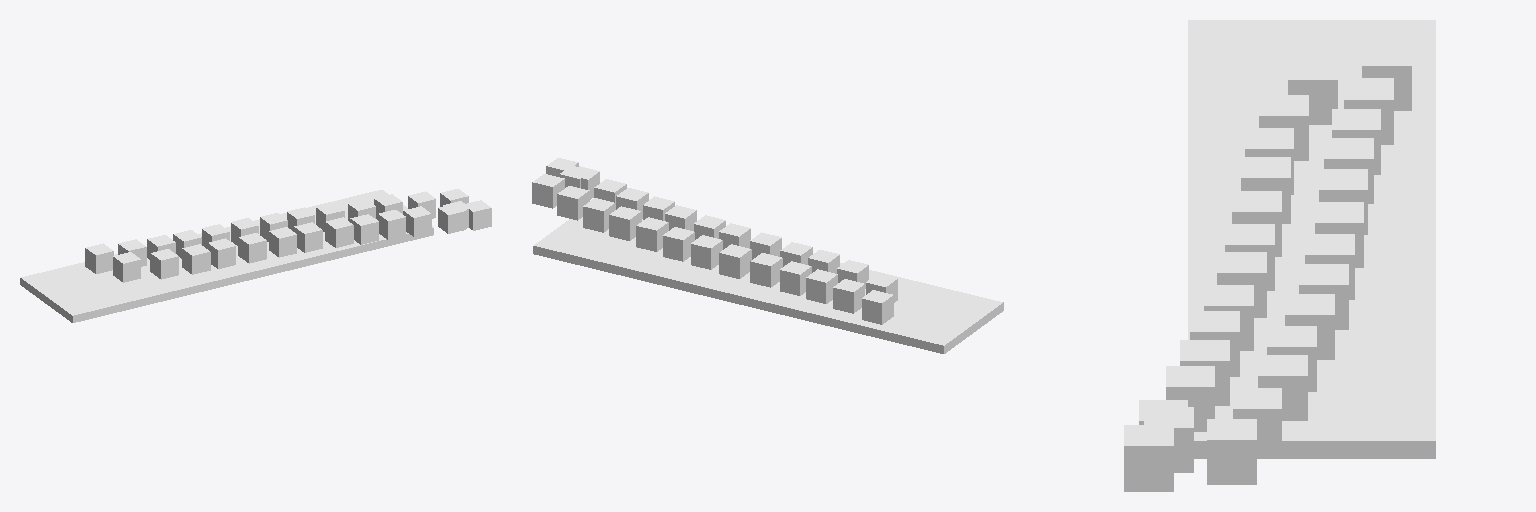
--- Facts derived from the render (not from the file) ---
The picture shows the robot from 3 angles, left to right: view 1: azimuth 30°, elevation 25°; view 2: azimuth 150°, elevation 25°; view 3: azimuth 270°, elevation 25°; orthographic projection.
Robot: plane — 28 links, 27 joints (27 prismatic); root link planeLink; default pose: all joints at 0.
Visible links, largest first — view 1: planeLink, disk_link_015, disk_link_003, disk_link_009, disk_link_005, disk_link_000, disk_link_001, disk_link_011, disk_link_019, disk_link_013, disk_link_021, disk_link_007 (+3 smaller); view 2: planeLink, disk_link_010, disk_link_000, disk_link_008, disk_link_002, disk_link_018, disk_link_012, disk_link_014, disk_link_022, disk_link_016, disk_link_004, disk_link_024 (+12 smaller); view 3: planeLink, disk_link_026, disk_link_024, disk_link_001, disk_link_020, disk_link_022, disk_link_021, disk_link_000, disk_link_016, disk_link_003, disk_link_013, disk_link_002 (+16 smaller).
Boxes of the visible links, x1,y1,x2,y2 form: planeLink: (20, 190, 433, 322); disk_link_015: (325, 217, 353, 247); disk_link_003: (150, 249, 178, 279); disk_link_009: (238, 233, 266, 263); disk_link_005: (182, 244, 210, 274); disk_link_000: (85, 243, 113, 273); disk_link_001: (113, 252, 140, 282); disk_link_011: (269, 227, 296, 257); disk_link_019: (378, 210, 405, 239); disk_link_013: (294, 222, 322, 252); disk_link_021: (403, 206, 431, 236); disk_link_007: (208, 238, 235, 268); planeLink: (533, 217, 1003, 353); disk_link_010: (719, 244, 751, 278); disk_link_000: (862, 290, 893, 324); disk_link_008: (750, 253, 782, 287); disk_link_002: (833, 279, 864, 313); disk_link_018: (609, 206, 641, 240); disk_link_012: (691, 235, 722, 269); disk_link_014: (663, 227, 694, 261); disk_link_022: (557, 186, 589, 220); disk_link_016: (636, 217, 668, 251); disk_link_004: (806, 269, 837, 303); disk_link_024: (532, 174, 564, 208); planeLink: (1188, 20, 1435, 458); disk_link_026: (1124, 425, 1173, 491); disk_link_024: (1207, 419, 1256, 484); disk_link_001: (1288, 59, 1337, 124); disk_link_020: (1258, 355, 1307, 420); disk_link_022: (1233, 388, 1281, 453); disk_link_021: (1166, 366, 1214, 431); disk_link_000: (1362, 45, 1411, 110); disk_link_016: (1285, 294, 1334, 359); disk_link_003: (1259, 95, 1308, 160); disk_link_013: (1217, 252, 1266, 317); disk_link_002: (1344, 78, 1393, 144).
Bounding box of the posed robot: 2.24 × 0.6281 × 0.14 m (x, y, z).
Geometry: primitives only (box / cylinder / sphere), no mesh files.

The robot description file, URDF, robot "plane":
<?xml version="1.0" ?>
<!-- =================================================================================== -->
<!-- |    This document was autogenerated by xacro from plane_with_restitution.urdf.xacro | -->
<!-- |    EDITING THIS FILE BY HAND IS NOT RECOMMENDED                                 | -->
<!-- =================================================================================== -->
<robot name="plane">
  <link name="planeLink">
    <contact>
      <lateral_friction value="1.0"/>
      <restitution value="0.0"/>
    </contact>
    <inertial>
      <origin rpy="0 0 0" xyz="0 0 0"/>
      <mass value=".0"/>
      <inertia ixx="0" ixy="0" ixz="0" iyy="0" iyz="0" izz="0"/>
    </inertial>
    <visual>
      <origin rpy="0 0 0" xyz="0.85 -0.1 -0.12"/>
      <geometry>
        <box size="2 0.5 0.04"/>
      </geometry>
      <material name="white">
        <color rgba="1 1 1 1"/>
      </material>
    </visual>
    <collision>
      <origin rpy="0 0 0" xyz="0.85 -0.1 -0.12"/>
      <geometry>
        <box size="2 0.5 0.04"/>
      </geometry>
    </collision>
  </link>
    <joint name="disk_joint_000" type="prismatic">
    <parent link="planeLink"/>
    <child link="disk_link_000"/>
    <limit effort="1000" lower="-10" upper="10" velocity="100000"/>
    <axis xyz="0 0 1"/>
    <origin rpy="0 0 0" xyz="0.2310104599667308 0.050647763888851983 -0.05"/>
  </joint>
  <link name="disk_link_000">
    <contact>
        <lateral_friction value="1.0"/>
        <restitution value="0.0"/>
    </contact>
    <inertial>
      <origin rpy="0 0 0" xyz="0 0 0"/>
       <mass value="1.0"/>
       <inertia ixx="0" ixy="0" ixz="0" iyy="0" iyz="0" izz="0"/>
    </inertial>
    <collision>
      <origin rpy="0 0 0" xyz="0 0 0"/>
      <geometry>
        <box size="0.1 0.1 0.1"/>
      </geometry>
      <material name="white">
        <color rgba="1 1 1 1"/>
      </material>
    </collision>
    <visual>
      <origin rpy="0 0 0" xyz="0 0 0"/>
      <geometry>
        <box size="0.1 0.1 0.1"/>
      </geometry>
      <material name="white">
        <color rgba="1 1 1 1"/>
      </material>
    </visual>
  </link>
  <joint name="disk_joint_001" type="prismatic">
    <parent link="planeLink"/>
    <child link="disk_link_001"/>
    <limit effort="1000" lower="-10" upper="10" velocity="100000"/>
    <axis xyz="0 0 1"/>
    <origin rpy="0 0 0" xyz="0.2969591136928226 -0.09700729740518442 -0.05"/>
  </joint>
  <link name="disk_link_001">
    <contact>
        <lateral_friction value="1.0"/>
        <restitution value="0.0"/>
    </contact>
    <inertial>
      <origin rpy="0 0 0" xyz="0 0 0"/>
       <mass value="1.0"/>
       <inertia ixx="0" ixy="0" ixz="0" iyy="0" iyz="0" izz="0"/>
    </inertial>
    <collision>
      <origin rpy="0 0 0" xyz="0 0 0"/>
      <geometry>
        <box size="0.1 0.1 0.1"/>
      </geometry>
      <material name="white">
        <color rgba="1 1 1 1"/>
      </material>
    </collision>
    <visual>
      <origin rpy="0 0 0" xyz="0 0 0"/>
      <geometry>
        <box size="0.1 0.1 0.1"/>
      </geometry>
      <material name="white">
        <color rgba="1 1 1 1"/>
      </material>
    </visual>
  </link>
  <joint name="disk_joint_002" type="prismatic">
    <parent link="planeLink"/>
    <child link="disk_link_002"/>
    <limit effort="1000" lower="-10" upper="10" velocity="100000"/>
    <axis xyz="0 0 1"/>
    <origin rpy="0 0 0" xyz="0.390574950430909 0.015025331780004255 -0.05"/>
  </joint>
  <link name="disk_link_002">
    <contact>
        <lateral_friction value="1.0"/>
        <restitution value="0.0"/>
    </contact>
    <inertial>
      <origin rpy="0 0 0" xyz="0 0 0"/>
       <mass value="1.0"/>
       <inertia ixx="0" ixy="0" ixz="0" iyy="0" iyz="0" izz="0"/>
    </inertial>
    <collision>
      <origin rpy="0 0 0" xyz="0 0 0"/>
      <geometry>
        <box size="0.1 0.1 0.1"/>
      </geometry>
      <material name="white">
        <color rgba="1 1 1 1"/>
      </material>
    </collision>
    <visual>
      <origin rpy="0 0 0" xyz="0 0 0"/>
      <geometry>
        <box size="0.1 0.1 0.1"/>
      </geometry>
      <material name="white">
        <color rgba="1 1 1 1"/>
      </material>
    </visual>
  </link>
  <joint name="disk_joint_003" type="prismatic">
    <parent link="planeLink"/>
    <child link="disk_link_003"/>
    <limit effort="1000" lower="-10" upper="10" velocity="100000"/>
    <axis xyz="0 0 1"/>
    <origin rpy="0 0 0" xyz="0.4709467151014552 -0.15623301192813455 -0.05"/>
  </joint>
  <link name="disk_link_003">
    <contact>
        <lateral_friction value="1.0"/>
        <restitution value="0.0"/>
    </contact>
    <inertial>
      <origin rpy="0 0 0" xyz="0 0 0"/>
       <mass value="1.0"/>
       <inertia ixx="0" ixy="0" ixz="0" iyy="0" iyz="0" izz="0"/>
    </inertial>
    <collision>
      <origin rpy="0 0 0" xyz="0 0 0"/>
      <geometry>
        <box size="0.1 0.1 0.1"/>
      </geometry>
      <material name="white">
        <color rgba="1 1 1 1"/>
      </material>
    </collision>
    <visual>
      <origin rpy="0 0 0" xyz="0 0 0"/>
      <geometry>
        <box size="0.1 0.1 0.1"/>
      </geometry>
      <material name="white">
        <color rgba="1 1 1 1"/>
      </material>
    </visual>
  </link>
  <joint name="disk_joint_004" type="prismatic">
    <parent link="planeLink"/>
    <child link="disk_link_004"/>
    <limit effort="1000" lower="-10" upper="10" velocity="100000"/>
    <axis xyz="0 0 1"/>
    <origin rpy="0 0 0" xyz="0.537315868208263 -0.010442785155386712 -0.05"/>
  </joint>
  <link name="disk_link_004">
    <contact>
        <lateral_friction value="1.0"/>
        <restitution value="0.0"/>
    </contact>
    <inertial>
      <origin rpy="0 0 0" xyz="0 0 0"/>
       <mass value="1.0"/>
       <inertia ixx="0" ixy="0" ixz="0" iyy="0" iyz="0" izz="0"/>
    </inertial>
    <collision>
      <origin rpy="0 0 0" xyz="0 0 0"/>
      <geometry>
        <box size="0.1 0.1 0.1"/>
      </geometry>
      <material name="white">
        <color rgba="1 1 1 1"/>
      </material>
    </collision>
    <visual>
      <origin rpy="0 0 0" xyz="0 0 0"/>
      <geometry>
        <box size="0.1 0.1 0.1"/>
      </geometry>
      <material name="white">
        <color rgba="1 1 1 1"/>
      </material>
    </visual>
  </link>
  <joint name="disk_joint_005" type="prismatic">
    <parent link="planeLink"/>
    <child link="disk_link_005"/>
    <limit effort="1000" lower="-10" upper="10" velocity="100000"/>
    <axis xyz="0 0 1"/>
    <origin rpy="0 0 0" xyz="0.6284558666370316 -0.18540581361519115 -0.05"/>
  </joint>
  <link name="disk_link_005">
    <contact>
        <lateral_friction value="1.0"/>
        <restitution value="0.0"/>
    </contact>
    <inertial>
      <origin rpy="0 0 0" xyz="0 0 0"/>
       <mass value="1.0"/>
       <inertia ixx="0" ixy="0" ixz="0" iyy="0" iyz="0" izz="0"/>
    </inertial>
    <collision>
      <origin rpy="0 0 0" xyz="0 0 0"/>
      <geometry>
        <box size="0.1 0.1 0.1"/>
      </geometry>
      <material name="white">
        <color rgba="1 1 1 1"/>
      </material>
    </collision>
    <visual>
      <origin rpy="0 0 0" xyz="0 0 0"/>
      <geometry>
        <box size="0.1 0.1 0.1"/>
      </geometry>
      <material name="white">
        <color rgba="1 1 1 1"/>
      </material>
    </visual>
  </link>
  <joint name="disk_joint_006" type="prismatic">
    <parent link="planeLink"/>
    <child link="disk_link_006"/>
    <limit effort="1000" lower="-10" upper="10" velocity="100000"/>
    <axis xyz="0 0 1"/>
    <origin rpy="0 0 0" xyz="0.6737209751410542 -0.02453396936138319 -0.05"/>
  </joint>
  <link name="disk_link_006">
    <contact>
        <lateral_friction value="1.0"/>
        <restitution value="0.0"/>
    </contact>
    <inertial>
      <origin rpy="0 0 0" xyz="0 0 0"/>
       <mass value="1.0"/>
       <inertia ixx="0" ixy="0" ixz="0" iyy="0" iyz="0" izz="0"/>
    </inertial>
    <collision>
      <origin rpy="0 0 0" xyz="0 0 0"/>
      <geometry>
        <box size="0.1 0.1 0.1"/>
      </geometry>
      <material name="white">
        <color rgba="1 1 1 1"/>
      </material>
    </collision>
    <visual>
      <origin rpy="0 0 0" xyz="0 0 0"/>
      <geometry>
        <box size="0.1 0.1 0.1"/>
      </geometry>
      <material name="white">
        <color rgba="1 1 1 1"/>
      </material>
    </visual>
  </link>
  <joint name="disk_joint_007" type="prismatic">
    <parent link="planeLink"/>
    <child link="disk_link_007"/>
    <limit effort="1000" lower="-10" upper="10" velocity="100000"/>
    <axis xyz="0 0 1"/>
    <origin rpy="0 0 0" xyz="0.7665436551221169 -0.19177342412637377 -0.05"/>
  </joint>
  <link name="disk_link_007">
    <contact>
        <lateral_friction value="1.0"/>
        <restitution value="0.0"/>
    </contact>
    <inertial>
      <origin rpy="0 0 0" xyz="0 0 0"/>
       <mass value="1.0"/>
       <inertia ixx="0" ixy="0" ixz="0" iyy="0" iyz="0" izz="0"/>
    </inertial>
    <collision>
      <origin rpy="0 0 0" xyz="0 0 0"/>
      <geometry>
        <box size="0.1 0.1 0.1"/>
      </geometry>
      <material name="white">
        <color rgba="1 1 1 1"/>
      </material>
    </collision>
    <visual>
      <origin rpy="0 0 0" xyz="0 0 0"/>
      <geometry>
        <box size="0.1 0.1 0.1"/>
      </geometry>
      <material name="white">
        <color rgba="1 1 1 1"/>
      </material>
    </visual>
  </link>
  <joint name="disk_joint_008" type="prismatic">
    <parent link="planeLink"/>
    <child link="disk_link_008"/>
    <limit effort="1000" lower="-10" upper="10" velocity="100000"/>
    <axis xyz="0 0 1"/>
    <origin rpy="0 0 0" xyz="0.8223524747499102 -0.03624261903151384 -0.05"/>
  </joint>
  <link name="disk_link_008">
    <contact>
        <lateral_friction value="1.0"/>
        <restitution value="0.0"/>
    </contact>
    <inertial>
      <origin rpy="0 0 0" xyz="0 0 0"/>
       <mass value="1.0"/>
       <inertia ixx="0" ixy="0" ixz="0" iyy="0" iyz="0" izz="0"/>
    </inertial>
    <collision>
      <origin rpy="0 0 0" xyz="0 0 0"/>
      <geometry>
        <box size="0.1 0.1 0.1"/>
      </geometry>
      <material name="white">
        <color rgba="1 1 1 1"/>
      </material>
    </collision>
    <visual>
      <origin rpy="0 0 0" xyz="0 0 0"/>
      <geometry>
        <box size="0.1 0.1 0.1"/>
      </geometry>
      <material name="white">
        <color rgba="1 1 1 1"/>
      </material>
    </visual>
  </link>
  <joint name="disk_joint_009" type="prismatic">
    <parent link="planeLink"/>
    <child link="disk_link_009"/>
    <limit effort="1000" lower="-10" upper="10" velocity="100000"/>
    <axis xyz="0 0 1"/>
    <origin rpy="0 0 0" xyz="0.9261747110678863 -0.2103429138079964 -0.05"/>
  </joint>
  <link name="disk_link_009">
    <contact>
        <lateral_friction value="1.0"/>
        <restitution value="0.0"/>
    </contact>
    <inertial>
      <origin rpy="0 0 0" xyz="0 0 0"/>
       <mass value="1.0"/>
       <inertia ixx="0" ixy="0" ixz="0" iyy="0" iyz="0" izz="0"/>
    </inertial>
    <collision>
      <origin rpy="0 0 0" xyz="0 0 0"/>
      <geometry>
        <box size="0.1 0.1 0.1"/>
      </geometry>
      <material name="white">
        <color rgba="1 1 1 1"/>
      </material>
    </collision>
    <visual>
      <origin rpy="0 0 0" xyz="0 0 0"/>
      <geometry>
        <box size="0.1 0.1 0.1"/>
      </geometry>
      <material name="white">
        <color rgba="1 1 1 1"/>
      </material>
    </visual>
  </link>
  <joint name="disk_joint_010" type="prismatic">
    <parent link="planeLink"/>
    <child link="disk_link_010"/>
    <limit effort="1000" lower="-10" upper="10" velocity="100000"/>
    <axis xyz="0 0 1"/>
    <origin rpy="0 0 0" xyz="0.9786134960198914 -0.04416917651523282 -0.05"/>
  </joint>
  <link name="disk_link_010">
    <contact>
        <lateral_friction value="1.0"/>
        <restitution value="0.0"/>
    </contact>
    <inertial>
      <origin rpy="0 0 0" xyz="0 0 0"/>
       <mass value="1.0"/>
       <inertia ixx="0" ixy="0" ixz="0" iyy="0" iyz="0" izz="0"/>
    </inertial>
    <collision>
      <origin rpy="0 0 0" xyz="0 0 0"/>
      <geometry>
        <box size="0.1 0.1 0.1"/>
      </geometry>
      <material name="white">
        <color rgba="1 1 1 1"/>
      </material>
    </collision>
    <visual>
      <origin rpy="0 0 0" xyz="0 0 0"/>
      <geometry>
        <box size="0.1 0.1 0.1"/>
      </geometry>
      <material name="white">
        <color rgba="1 1 1 1"/>
      </material>
    </visual>
  </link>
  <joint name="disk_joint_011" type="prismatic">
    <parent link="planeLink"/>
    <child link="disk_link_011"/>
    <limit effort="1000" lower="-10" upper="10" velocity="100000"/>
    <axis xyz="0 0 1"/>
    <origin rpy="0 0 0" xyz="1.0854353063743574 -0.22434633480902516 -0.05"/>
  </joint>
  <link name="disk_link_011">
    <contact>
        <lateral_friction value="1.0"/>
        <restitution value="0.0"/>
    </contact>
    <inertial>
      <origin rpy="0 0 0" xyz="0 0 0"/>
       <mass value="1.0"/>
       <inertia ixx="0" ixy="0" ixz="0" iyy="0" iyz="0" izz="0"/>
    </inertial>
    <collision>
      <origin rpy="0 0 0" xyz="0 0 0"/>
      <geometry>
        <box size="0.1 0.1 0.1"/>
      </geometry>
      <material name="white">
        <color rgba="1 1 1 1"/>
      </material>
    </collision>
    <visual>
      <origin rpy="0 0 0" xyz="0 0 0"/>
      <geometry>
        <box size="0.1 0.1 0.1"/>
      </geometry>
      <material name="white">
        <color rgba="1 1 1 1"/>
      </material>
    </visual>
  </link>
  <joint name="disk_joint_012" type="prismatic">
    <parent link="planeLink"/>
    <child link="disk_link_012"/>
    <limit effort="1000" lower="-10" upper="10" velocity="100000"/>
    <axis xyz="0 0 1"/>
    <origin rpy="0 0 0" xyz="1.129101384303726 -0.06329165956889105 -0.05"/>
  </joint>
  <link name="disk_link_012">
    <contact>
        <lateral_friction value="1.0"/>
        <restitution value="0.0"/>
    </contact>
    <inertial>
      <origin rpy="0 0 0" xyz="0 0 0"/>
       <mass value="1.0"/>
       <inertia ixx="0" ixy="0" ixz="0" iyy="0" iyz="0" izz="0"/>
    </inertial>
    <collision>
      <origin rpy="0 0 0" xyz="0 0 0"/>
      <geometry>
        <box size="0.1 0.1 0.1"/>
      </geometry>
      <material name="white">
        <color rgba="1 1 1 1"/>
      </material>
    </collision>
    <visual>
      <origin rpy="0 0 0" xyz="0 0 0"/>
      <geometry>
        <box size="0.1 0.1 0.1"/>
      </geometry>
      <material name="white">
        <color rgba="1 1 1 1"/>
      </material>
    </visual>
  </link>
  <joint name="disk_joint_013" type="prismatic">
    <parent link="planeLink"/>
    <child link="disk_link_013"/>
    <limit effort="1000" lower="-10" upper="10" velocity="100000"/>
    <axis xyz="0 0 1"/>
    <origin rpy="0 0 0" xyz="1.2167957033746286 -0.23983165702741302 -0.05"/>
  </joint>
  <link name="disk_link_013">
    <contact>
        <lateral_friction value="1.0"/>
        <restitution value="0.0"/>
    </contact>
    <inertial>
      <origin rpy="0 0 0" xyz="0 0 0"/>
       <mass value="1.0"/>
       <inertia ixx="0" ixy="0" ixz="0" iyy="0" iyz="0" izz="0"/>
    </inertial>
    <collision>
      <origin rpy="0 0 0" xyz="0 0 0"/>
      <geometry>
        <box size="0.1 0.1 0.1"/>
      </geometry>
      <material name="white">
        <color rgba="1 1 1 1"/>
      </material>
    </collision>
    <visual>
      <origin rpy="0 0 0" xyz="0 0 0"/>
      <geometry>
        <box size="0.1 0.1 0.1"/>
      </geometry>
      <material name="white">
        <color rgba="1 1 1 1"/>
      </material>
    </visual>
  </link>
  <joint name="disk_joint_014" type="prismatic">
    <parent link="planeLink"/>
    <child link="disk_link_014"/>
    <limit effort="1000" lower="-10" upper="10" velocity="100000"/>
    <axis xyz="0 0 1"/>
    <origin rpy="0 0 0" xyz="1.2715355927494527 -0.0754524941432633 -0.05"/>
  </joint>
  <link name="disk_link_014">
    <contact>
        <lateral_friction value="1.0"/>
        <restitution value="0.0"/>
    </contact>
    <inertial>
      <origin rpy="0 0 0" xyz="0 0 0"/>
       <mass value="1.0"/>
       <inertia ixx="0" ixy="0" ixz="0" iyy="0" iyz="0" izz="0"/>
    </inertial>
    <collision>
      <origin rpy="0 0 0" xyz="0 0 0"/>
      <geometry>
        <box size="0.1 0.1 0.1"/>
      </geometry>
      <material name="white">
        <color rgba="1 1 1 1"/>
      </material>
    </collision>
    <visual>
      <origin rpy="0 0 0" xyz="0 0 0"/>
      <geometry>
        <box size="0.1 0.1 0.1"/>
      </geometry>
      <material name="white">
        <color rgba="1 1 1 1"/>
      </material>
    </visual>
  </link>
  <joint name="disk_joint_015" type="prismatic">
    <parent link="planeLink"/>
    <child link="disk_link_015"/>
    <limit effort="1000" lower="-10" upper="10" velocity="100000"/>
    <axis xyz="0 0 1"/>
    <origin rpy="0 0 0" xyz="1.3730383763141698 -0.26609409071287693 -0.05"/>
  </joint>
  <link name="disk_link_015">
    <contact>
        <lateral_friction value="1.0"/>
        <restitution value="0.0"/>
    </contact>
    <inertial>
      <origin rpy="0 0 0" xyz="0 0 0"/>
       <mass value="1.0"/>
       <inertia ixx="0" ixy="0" ixz="0" iyy="0" iyz="0" izz="0"/>
    </inertial>
    <collision>
      <origin rpy="0 0 0" xyz="0 0 0"/>
      <geometry>
        <box size="0.1 0.1 0.1"/>
      </geometry>
      <material name="white">
        <color rgba="1 1 1 1"/>
      </material>
    </collision>
    <visual>
      <origin rpy="0 0 0" xyz="0 0 0"/>
      <geometry>
        <box size="0.1 0.1 0.1"/>
      </geometry>
      <material name="white">
        <color rgba="1 1 1 1"/>
      </material>
    </visual>
  </link>
  <joint name="disk_joint_016" type="prismatic">
    <parent link="planeLink"/>
    <child link="disk_link_016"/>
    <limit effort="1000" lower="-10" upper="10" velocity="100000"/>
    <axis xyz="0 0 1"/>
    <origin rpy="0 0 0" xyz="1.4168669954673883 -0.1030916474282379 -0.05"/>
  </joint>
  <link name="disk_link_016">
    <contact>
        <lateral_friction value="1.0"/>
        <restitution value="0.0"/>
    </contact>
    <inertial>
      <origin rpy="0 0 0" xyz="0 0 0"/>
       <mass value="1.0"/>
       <inertia ixx="0" ixy="0" ixz="0" iyy="0" iyz="0" izz="0"/>
    </inertial>
    <collision>
      <origin rpy="0 0 0" xyz="0 0 0"/>
      <geometry>
        <box size="0.1 0.1 0.1"/>
      </geometry>
      <material name="white">
        <color rgba="1 1 1 1"/>
      </material>
    </collision>
    <visual>
      <origin rpy="0 0 0" xyz="0 0 0"/>
      <geometry>
        <box size="0.1 0.1 0.1"/>
      </geometry>
      <material name="white">
        <color rgba="1 1 1 1"/>
      </material>
    </visual>
  </link>
  <joint name="disk_joint_017" type="prismatic">
    <parent link="planeLink"/>
    <child link="disk_link_017"/>
    <limit effort="1000" lower="-10" upper="10" velocity="100000"/>
    <axis xyz="0 0 1"/>
    <origin rpy="0 0 0" xyz="1.4961198844295418 -0.2948803547274615 -0.05"/>
  </joint>
  <link name="disk_link_017">
    <contact>
        <lateral_friction value="1.0"/>
        <restitution value="0.0"/>
    </contact>
    <inertial>
      <origin rpy="0 0 0" xyz="0 0 0"/>
       <mass value="1.0"/>
       <inertia ixx="0" ixy="0" ixz="0" iyy="0" iyz="0" izz="0"/>
    </inertial>
    <collision>
      <origin rpy="0 0 0" xyz="0 0 0"/>
      <geometry>
        <box size="0.1 0.1 0.1"/>
      </geometry>
      <material name="white">
        <color rgba="1 1 1 1"/>
      </material>
    </collision>
    <visual>
      <origin rpy="0 0 0" xyz="0 0 0"/>
      <geometry>
        <box size="0.1 0.1 0.1"/>
      </geometry>
      <material name="white">
        <color rgba="1 1 1 1"/>
      </material>
    </visual>
  </link>
  <joint name="disk_joint_018" type="prismatic">
    <parent link="planeLink"/>
    <child link="disk_link_018"/>
    <limit effort="1000" lower="-10" upper="10" velocity="100000"/>
    <axis xyz="0 0 1"/>
    <origin rpy="0 0 0" xyz="1.5699097740742016 -0.14001511267700847 -0.05"/>
  </joint>
  <link name="disk_link_018">
    <contact>
        <lateral_friction value="1.0"/>
        <restitution value="0.0"/>
    </contact>
    <inertial>
      <origin rpy="0 0 0" xyz="0 0 0"/>
       <mass value="1.0"/>
       <inertia ixx="0" ixy="0" ixz="0" iyy="0" iyz="0" izz="0"/>
    </inertial>
    <collision>
      <origin rpy="0 0 0" xyz="0 0 0"/>
      <geometry>
        <box size="0.1 0.1 0.1"/>
      </geometry>
      <material name="white">
        <color rgba="1 1 1 1"/>
      </material>
    </collision>
    <visual>
      <origin rpy="0 0 0" xyz="0 0 0"/>
      <geometry>
        <box size="0.1 0.1 0.1"/>
      </geometry>
      <material name="white">
        <color rgba="1 1 1 1"/>
      </material>
    </visual>
  </link>
  <joint name="disk_joint_019" type="prismatic">
    <parent link="planeLink"/>
    <child link="disk_link_019"/>
    <limit effort="1000" lower="-10" upper="10" velocity="100000"/>
    <axis xyz="0 0 1"/>
    <origin rpy="0 0 0" xyz="1.6365917712702216 -0.31507755066190846 -0.05"/>
  </joint>
  <link name="disk_link_019">
    <contact>
        <lateral_friction value="1.0"/>
        <restitution value="0.0"/>
    </contact>
    <inertial>
      <origin rpy="0 0 0" xyz="0 0 0"/>
       <mass value="1.0"/>
       <inertia ixx="0" ixy="0" ixz="0" iyy="0" iyz="0" izz="0"/>
    </inertial>
    <collision>
      <origin rpy="0 0 0" xyz="0 0 0"/>
      <geometry>
        <box size="0.1 0.1 0.1"/>
      </geometry>
      <material name="white">
        <color rgba="1 1 1 1"/>
      </material>
    </collision>
    <visual>
      <origin rpy="0 0 0" xyz="0 0 0"/>
      <geometry>
        <box size="0.1 0.1 0.1"/>
      </geometry>
      <material name="white">
        <color rgba="1 1 1 1"/>
      </material>
    </visual>
  </link>
  <joint name="disk_joint_020" type="prismatic">
    <parent link="planeLink"/>
    <child link="disk_link_020"/>
    <limit effort="1000" lower="-10" upper="10" velocity="100000"/>
    <axis xyz="0 0 1"/>
    <origin rpy="0 0 0" xyz="1.70755544799909 -0.15789058598035208 -0.05"/>
  </joint>
  <link name="disk_link_020">
    <contact>
        <lateral_friction value="1.0"/>
        <restitution value="0.0"/>
    </contact>
    <inertial>
      <origin rpy="0 0 0" xyz="0 0 0"/>
       <mass value="1.0"/>
       <inertia ixx="0" ixy="0" ixz="0" iyy="0" iyz="0" izz="0"/>
    </inertial>
    <collision>
      <origin rpy="0 0 0" xyz="0 0 0"/>
      <geometry>
        <box size="0.1 0.1 0.1"/>
      </geometry>
      <material name="white">
        <color rgba="1 1 1 1"/>
      </material>
    </collision>
    <visual>
      <origin rpy="0 0 0" xyz="0 0 0"/>
      <geometry>
        <box size="0.1 0.1 0.1"/>
      </geometry>
      <material name="white">
        <color rgba="1 1 1 1"/>
      </material>
    </visual>
  </link>
  <joint name="disk_joint_021" type="prismatic">
    <parent link="planeLink"/>
    <child link="disk_link_021"/>
    <limit effort="1000" lower="-10" upper="10" velocity="100000"/>
    <axis xyz="0 0 1"/>
    <origin rpy="0 0 0" xyz="1.7603258364441836 -0.34425680873397413 -0.05"/>
  </joint>
  <link name="disk_link_021">
    <contact>
        <lateral_friction value="1.0"/>
        <restitution value="0.0"/>
    </contact>
    <inertial>
      <origin rpy="0 0 0" xyz="0 0 0"/>
       <mass value="1.0"/>
       <inertia ixx="0" ixy="0" ixz="0" iyy="0" iyz="0" izz="0"/>
    </inertial>
    <collision>
      <origin rpy="0 0 0" xyz="0 0 0"/>
      <geometry>
        <box size="0.1 0.1 0.1"/>
      </geometry>
      <material name="white">
        <color rgba="1 1 1 1"/>
      </material>
    </collision>
    <visual>
      <origin rpy="0 0 0" xyz="0 0 0"/>
      <geometry>
        <box size="0.1 0.1 0.1"/>
      </geometry>
      <material name="white">
        <color rgba="1 1 1 1"/>
      </material>
    </visual>
  </link>
  <joint name="disk_joint_022" type="prismatic">
    <parent link="planeLink"/>
    <child link="disk_link_022"/>
    <limit effort="1000" lower="-10" upper="10" velocity="100000"/>
    <axis xyz="0 0 1"/>
    <origin rpy="0 0 0" xyz="1.8631400464074372 -0.2091863987519937 -0.05"/>
  </joint>
  <link name="disk_link_022">
    <contact>
        <lateral_friction value="1.0"/>
        <restitution value="0.0"/>
    </contact>
    <inertial>
      <origin rpy="0 0 0" xyz="0 0 0"/>
       <mass value="1.0"/>
       <inertia ixx="0" ixy="0" ixz="0" iyy="0" iyz="0" izz="0"/>
    </inertial>
    <collision>
      <origin rpy="0 0 0" xyz="0 0 0"/>
      <geometry>
        <box size="0.1 0.1 0.1"/>
      </geometry>
      <material name="white">
        <color rgba="1 1 1 1"/>
      </material>
    </collision>
    <visual>
      <origin rpy="0 0 0" xyz="0 0 0"/>
      <geometry>
        <box size="0.1 0.1 0.1"/>
      </geometry>
      <material name="white">
        <color rgba="1 1 1 1"/>
      </material>
    </visual>
  </link>
  <joint name="disk_joint_023" type="prismatic">
    <parent link="planeLink"/>
    <child link="disk_link_023"/>
    <limit effort="1000" lower="-10" upper="10" velocity="100000"/>
    <axis xyz="0 0 1"/>
    <origin rpy="0 0 0" xyz="1.9204584937315705 -0.39843645956395807 -0.05"/>
  </joint>
  <link name="disk_link_023">
    <contact>
        <lateral_friction value="1.0"/>
        <restitution value="0.0"/>
    </contact>
    <inertial>
      <origin rpy="0 0 0" xyz="0 0 0"/>
       <mass value="1.0"/>
       <inertia ixx="0" ixy="0" ixz="0" iyy="0" iyz="0" izz="0"/>
    </inertial>
    <collision>
      <origin rpy="0 0 0" xyz="0 0 0"/>
      <geometry>
        <box size="0.1 0.1 0.1"/>
      </geometry>
      <material name="white">
        <color rgba="1 1 1 1"/>
      </material>
    </collision>
    <visual>
      <origin rpy="0 0 0" xyz="0 0 0"/>
      <geometry>
        <box size="0.1 0.1 0.1"/>
      </geometry>
      <material name="white">
        <color rgba="1 1 1 1"/>
      </material>
    </visual>
  </link>
  <joint name="disk_joint_024" type="prismatic">
    <parent link="planeLink"/>
    <child link="disk_link_024"/>
    <limit effort="1000" lower="-10" upper="10" velocity="100000"/>
    <axis xyz="0 0 1"/>
    <origin rpy="0 0 0" xyz="2.0127336864782444 -0.2599968164636447 -0.05"/>
  </joint>
  <link name="disk_link_024">
    <contact>
        <lateral_friction value="1.0"/>
        <restitution value="0.0"/>
    </contact>
    <inertial>
      <origin rpy="0 0 0" xyz="0 0 0"/>
       <mass value="1.0"/>
       <inertia ixx="0" ixy="0" ixz="0" iyy="0" iyz="0" izz="0"/>
    </inertial>
    <collision>
      <origin rpy="0 0 0" xyz="0 0 0"/>
      <geometry>
        <box size="0.1 0.1 0.1"/>
      </geometry>
      <material name="white">
        <color rgba="1 1 1 1"/>
      </material>
    </collision>
    <visual>
      <origin rpy="0 0 0" xyz="0 0 0"/>
      <geometry>
        <box size="0.1 0.1 0.1"/>
      </geometry>
      <material name="white">
        <color rgba="1 1 1 1"/>
      </material>
    </visual>
  </link>
  <joint name="disk_joint_025" type="prismatic">
    <parent link="planeLink"/>
    <child link="disk_link_025"/>
    <limit effort="1000" lower="-10" upper="10" velocity="100000"/>
    <axis xyz="0 0 1"/>
    <origin rpy="0 0 0" xyz="1.9543735216764637 -0.38717488716160725 -0.05"/>
  </joint>
  <link name="disk_link_025">
    <contact>
        <lateral_friction value="1.0"/>
        <restitution value="0.0"/>
    </contact>
    <inertial>
      <origin rpy="0 0 0" xyz="0 0 0"/>
       <mass value="1.0"/>
       <inertia ixx="0" ixy="0" ixz="0" iyy="0" iyz="0" izz="0"/>
    </inertial>
    <collision>
      <origin rpy="0 0 0" xyz="0 0 0"/>
      <geometry>
        <box size="0.1 0.1 0.1"/>
      </geometry>
      <material name="white">
        <color rgba="1 1 1 1"/>
      </material>
    </collision>
    <visual>
      <origin rpy="0 0 0" xyz="0 0 0"/>
      <geometry>
        <box size="0.1 0.1 0.1"/>
      </geometry>
      <material name="white">
        <color rgba="1 1 1 1"/>
      </material>
    </visual>
  </link>
  <joint name="disk_joint_026" type="prismatic">
    <parent link="planeLink"/>
    <child link="disk_link_026"/>
    <limit effort="1000" lower="-10" upper="10" velocity="100000"/>
    <axis xyz="0 0 1"/>
    <origin rpy="0 0 0" xyz="2.041939873253766 -0.4280686786705801 -0.05"/>
  </joint>
  <link name="disk_link_026">
    <contact>
        <lateral_friction value="1.0"/>
        <restitution value="0.0"/>
    </contact>
    <inertial>
      <origin rpy="0 0 0" xyz="0 0 0"/>
       <mass value="1.0"/>
       <inertia ixx="0" ixy="0" ixz="0" iyy="0" iyz="0" izz="0"/>
    </inertial>
    <collision>
      <origin rpy="0 0 0" xyz="0 0 0"/>
      <geometry>
        <box size="0.1 0.1 0.1"/>
      </geometry>
      <material name="white">
        <color rgba="1 1 1 1"/>
      </material>
    </collision>
    <visual>
      <origin rpy="0 0 0" xyz="0 0 0"/>
      <geometry>
        <box size="0.1 0.1 0.1"/>
      </geometry>
      <material name="white">
        <color rgba="1 1 1 1"/>
      </material>
    </visual>
  </link>

</robot>
